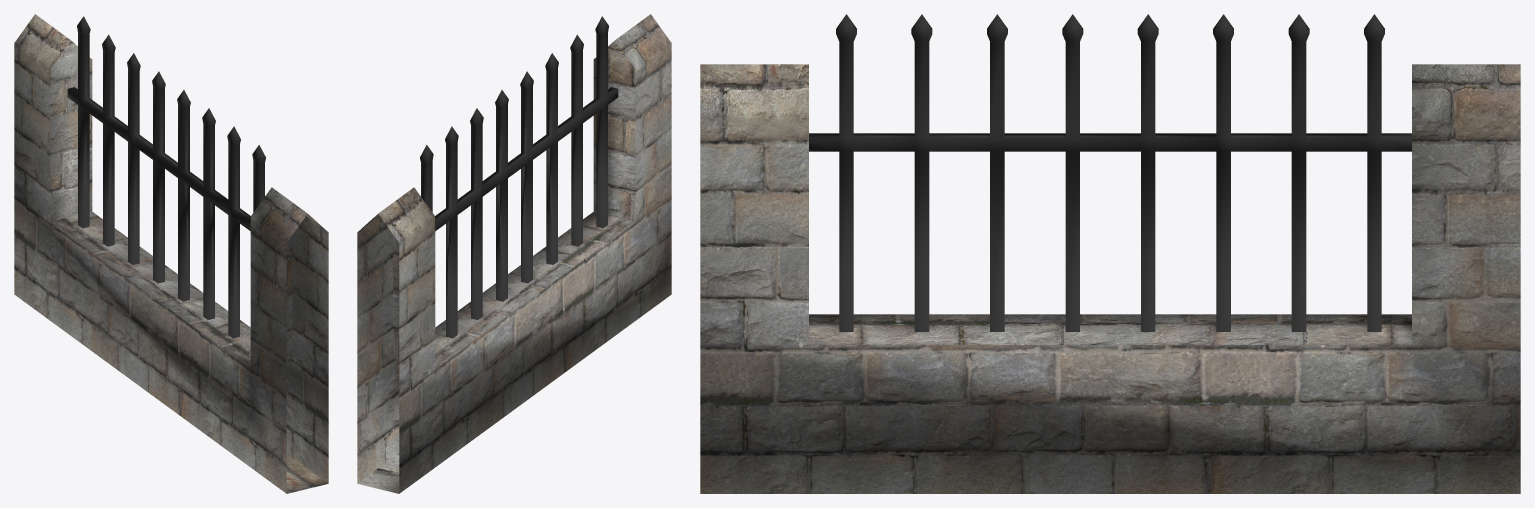
File: IronFence.fbx
3 renders of one model, left to right at view 1: azimuth 30°, elevation 25°; view 2: azimuth 150°, elevation 25°; view 3: azimuth 270°, elevation 25°, orthographic. The views are drawn at different scales.
Parts seen in each view (by area): view 1: Fence; view 2: Fence; view 3: Fence.
Part boxes in pixels (x1=…): Fence: x1=14, y1=14, x2=328, y2=493; Fence: x1=357, y1=14, x2=671, y2=493; Fence: x1=700, y1=14, x2=1520, y2=493.
Bounding box in the file's own units: 88.68 × 624 × 998.
Materials: 2 (1 with a texture image).
